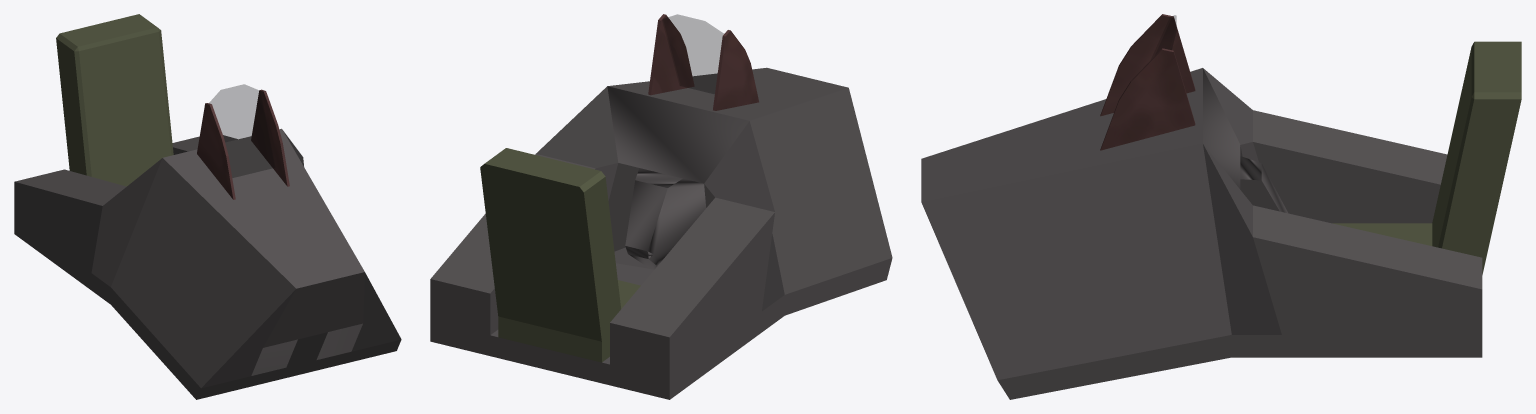
Rendered from cockpit.gltf.
The picture shows the model from 3 angles, left to right: view 1: azimuth 30°, elevation 25°; view 2: azimuth 150°, elevation 25°; view 3: azimuth 270°, elevation 25°; orthographic projection. The views are drawn at different scales.
Parts seen in each view (by area): view 1: Main frame, Seat, Glass, Visor_frame; view 2: Main frame, Seat, Visor_frame, Glass; view 3: Main frame, Seat, Visor_frame.
Boxes of the visible parts, x1,y1,x2,y2 form: Main frame: [14, 128, 401, 399]; Seat: [56, 14, 173, 186]; Glass: [209, 84, 274, 177]; Visor_frame: [197, 89, 289, 199]; Main frame: [430, 67, 892, 399]; Seat: [480, 148, 640, 362]; Visor_frame: [648, 14, 758, 110]; Glass: [662, 14, 723, 93]; Main frame: [921, 68, 1482, 399]; Seat: [1332, 41, 1521, 274]; Visor_frame: [1100, 14, 1195, 150].
Bounding box in the file's own units: 0.3156 × 0.3639 × 0.6303.
4 materials, 4 textured.
